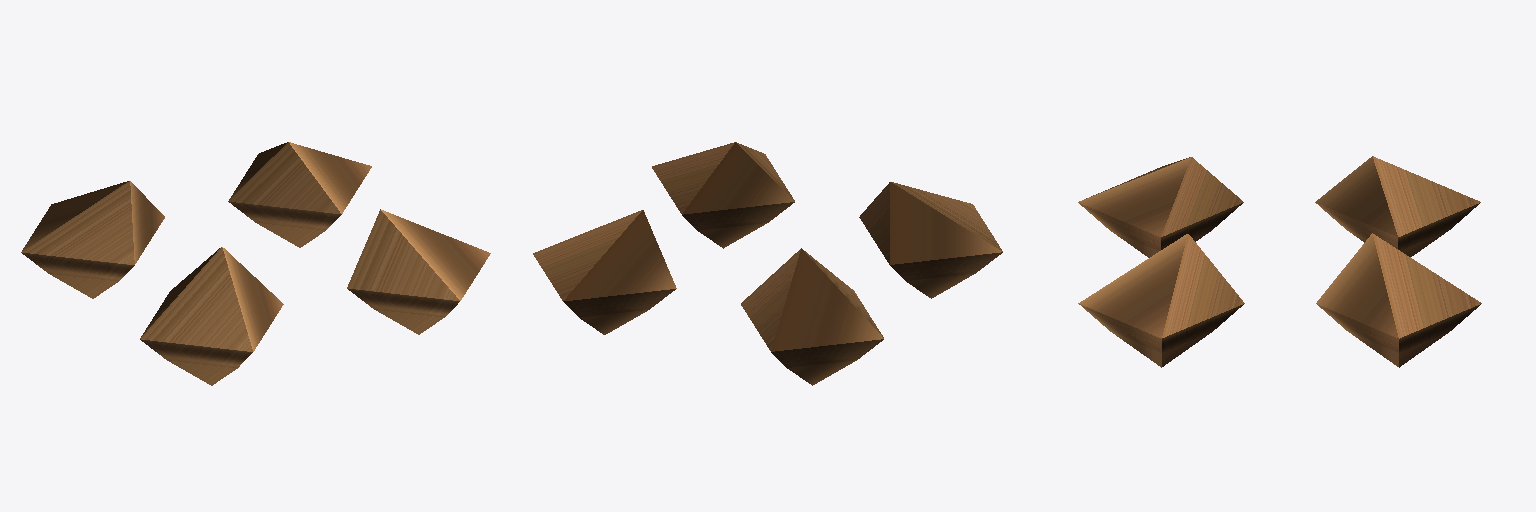
3 renders of one model, left to right at view 1: azimuth 30°, elevation 25°; view 2: azimuth 150°, elevation 25°; view 3: azimuth 270°, elevation 25°, orthographic.
Visible parts, largest first — view 1: 立方体; view 2: 立方体; view 3: 立方体.
Boxes of the visible parts, <box> form: 立方体: <box>21,142,490,385</box>; 立方体: <box>533,142,1002,385</box>; 立方体: <box>1078,156,1481,367</box>.
Size of the model in its own units: 2 by 0.6655 by 2.
4 materials, 1 textured.